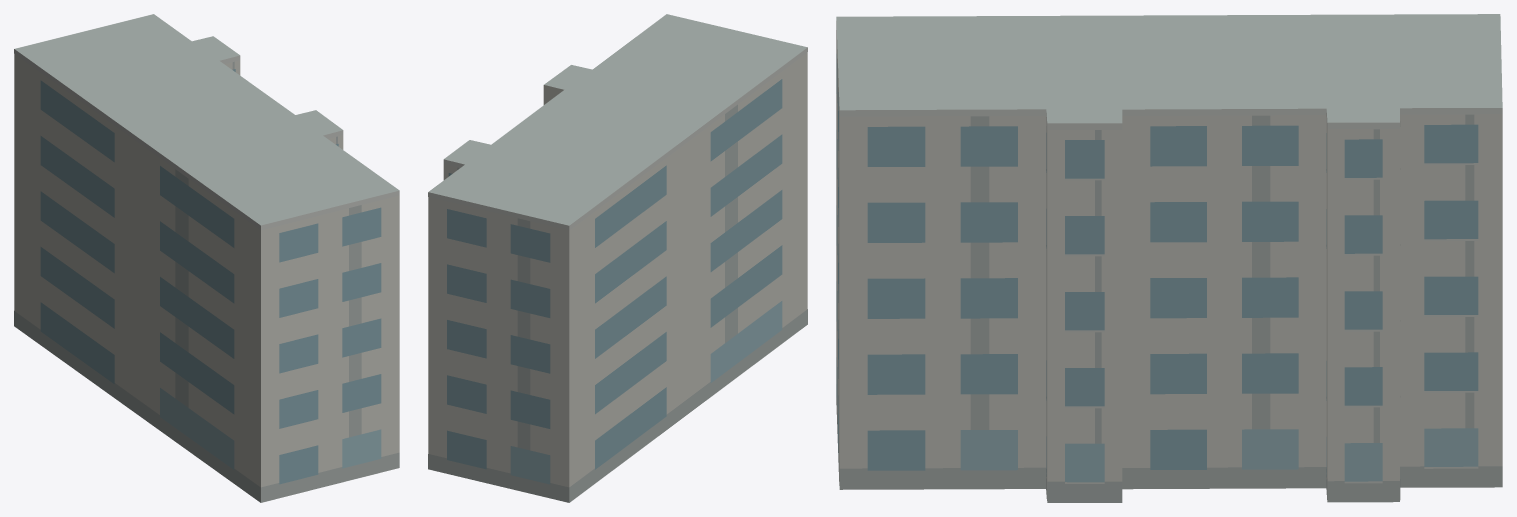
Rendered from survey-upis-32538566.glb.
The picture shows the model from 3 angles, left to right: view 1: azimuth 30°, elevation 25°; view 2: azimuth 150°, elevation 25°; view 3: azimuth 270°, elevation 25°; orthographic projection. The views are drawn at different scales.
Parts seen in each view (by area): view 1: survey-upis-32538566.tmp; view 2: survey-upis-32538566.tmp; view 3: survey-upis-32538566.tmp.
Boxes of the visible parts, <box> form: survey-upis-32538566.tmp: <box>14,14,399,502</box>; survey-upis-32538566.tmp: <box>428,14,807,502</box>; survey-upis-32538566.tmp: <box>836,14,1502,502</box>.
Bounding box in the file's own units: 8.69 × 14.04 × 22.35.
